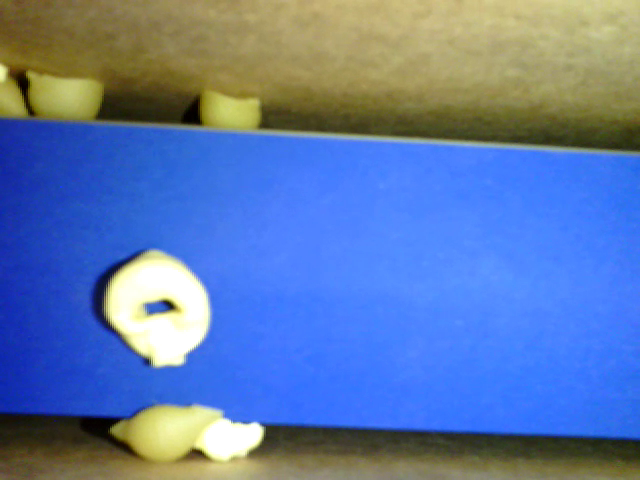shell: (108, 402, 224, 464), (27, 70, 105, 120), (201, 89, 260, 132)
tortellini: (102, 247, 210, 368)
